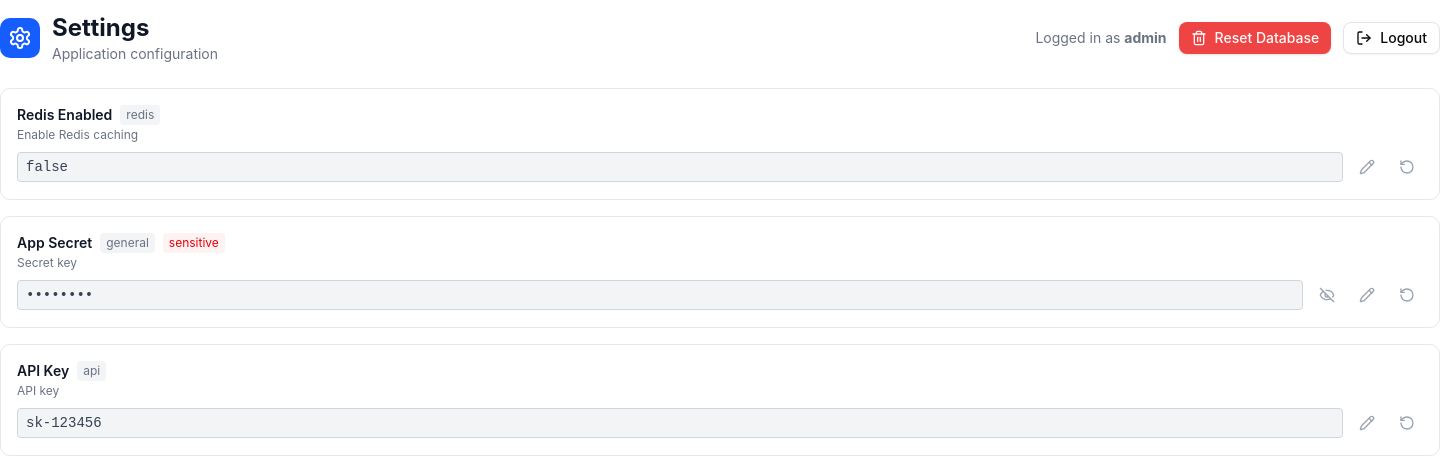
Test: Settings.vue — reveal sensitive values › clicking non-edit eye button toggles visibleKeys
The image size is (1452, 473).
Click the button titled "Reveal value": (1327, 295) [1311,279,1343,311]
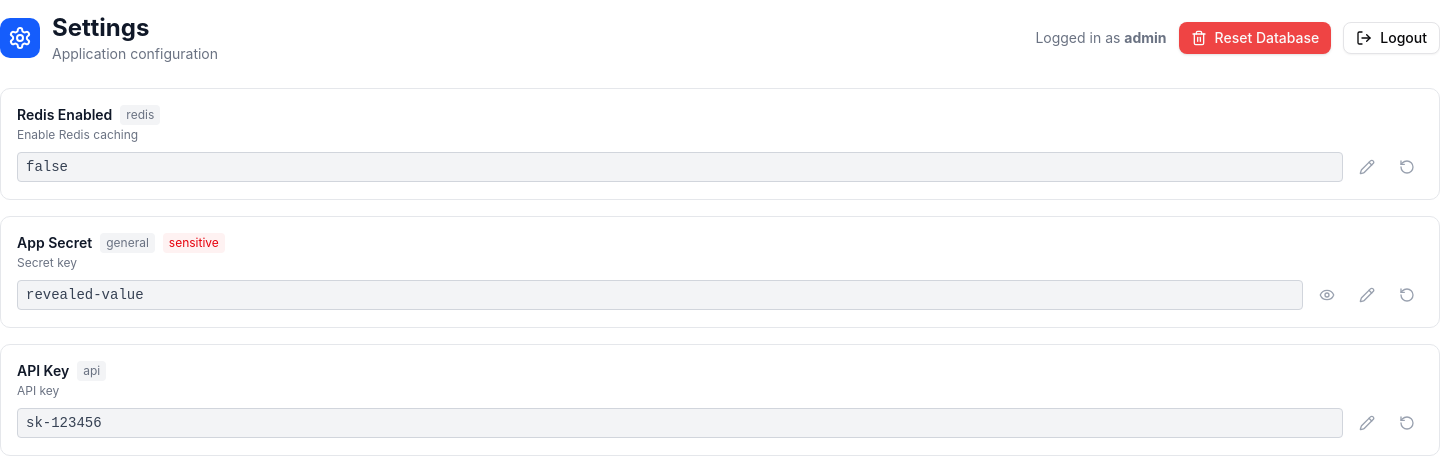
Expected: the text "revealed-value" is shown, [17,280,1303,310]
